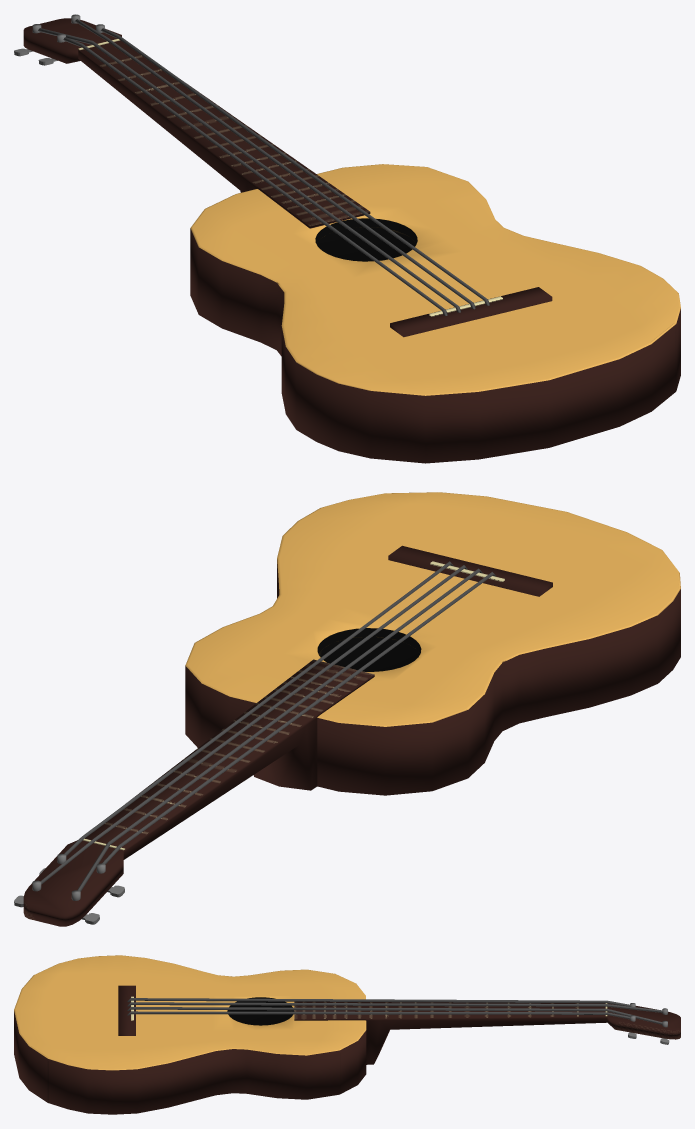
File: guitar.fbx
3 renders of one model, top to bottom at view 1: azimuth 30°, elevation 25°; view 2: azimuth 150°, elevation 25°; view 3: azimuth 270°, elevation 25°, orthographic. The views are drawn at different scales.
Parts seen in each view (by area): view 1: Body, Fretboard, Stringthing, tuning part thing, String 3, String 2, String 1, String 4; view 2: Body, Fretboard, tuning part thing, Stringthing, String 2, String 3, String 4, String 1; view 3: Body, Fretboard, String 3, String 2, String 1, String 4, tuning part thing, Stringthing.
Part boxes in pixels (bbox=[...]): Body: bbox=[190, 164, 680, 463]; Fretboard: bbox=[78, 40, 370, 228]; Stringthing: bbox=[390, 287, 552, 337]; tuning part thing: bbox=[23, 18, 121, 63]; String 3: bbox=[38, 28, 461, 312]; String 2: bbox=[75, 19, 475, 309]; String 1: bbox=[101, 28, 489, 305]; String 4: bbox=[63, 37, 447, 315]; Body: bbox=[185, 492, 680, 795]; Fretboard: bbox=[85, 659, 374, 859]; tuning part thing: bbox=[23, 840, 123, 926]; Stringthing: bbox=[388, 545, 552, 596]; String 2: bbox=[40, 565, 467, 884]; String 3: bbox=[77, 568, 482, 891]; String 4: bbox=[102, 572, 495, 864]; String 1: bbox=[64, 561, 453, 855]; Body: bbox=[14, 955, 366, 1114]; Fretboard: bbox=[294, 1001, 607, 1064]; String 3: bbox=[127, 1002, 662, 1012]; String 2: bbox=[127, 1007, 662, 1024]; String 1: bbox=[127, 1011, 630, 1019]; String 4: bbox=[127, 998, 630, 1006]; tuning part thing: bbox=[607, 1003, 680, 1039]; Stringthing: bbox=[118, 985, 135, 1035].
Bounding box in the file's own units: 164 × 34.24 × 402.
6 materials, 2 textured.
